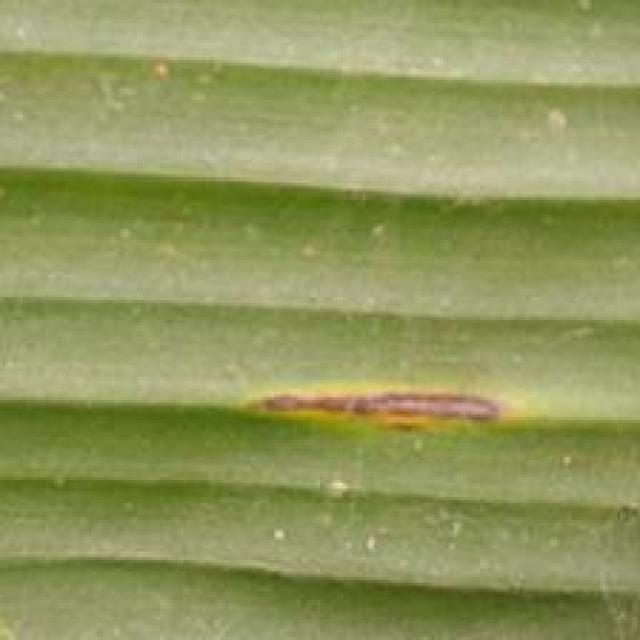Early_leaf_spot: (222, 365, 550, 464), (133, 47, 188, 102)
